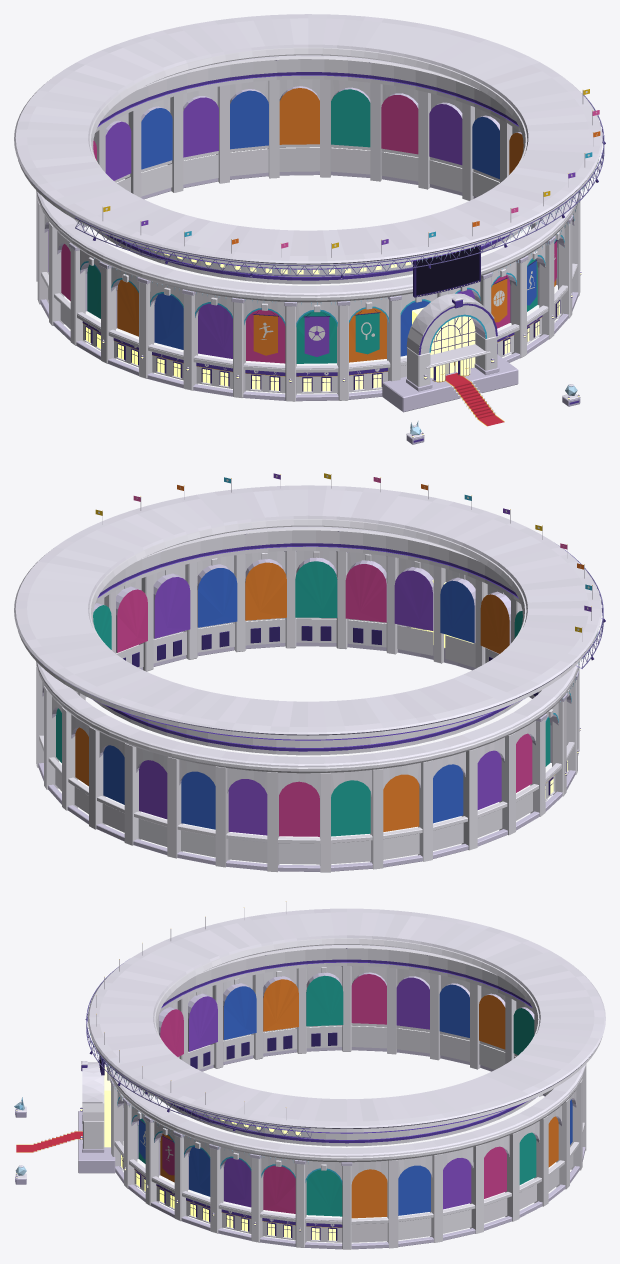
File: ws-stadium.glb
3 views of the same model, one above another, from view 1: azimuth 30°, elevation 25°; view 2: azimuth 150°, elevation 25°; view 3: azimuth 270°, elevation 25° (orthographic). The views are drawn at different scales.
Visible parts, largest first — view 1: Stadium, Screen; view 2: Stadium; view 3: Stadium.
Part boxes in pixels (<box>): Stadium: <box>14,14,605,444</box>; Screen: <box>416,246,479,295</box>; Stadium: <box>14,474,605,872</box>; Stadium: <box>14,901,605,1249</box>.
Size of the model in its own units: 83.7 by 25.76 by 95.62.
